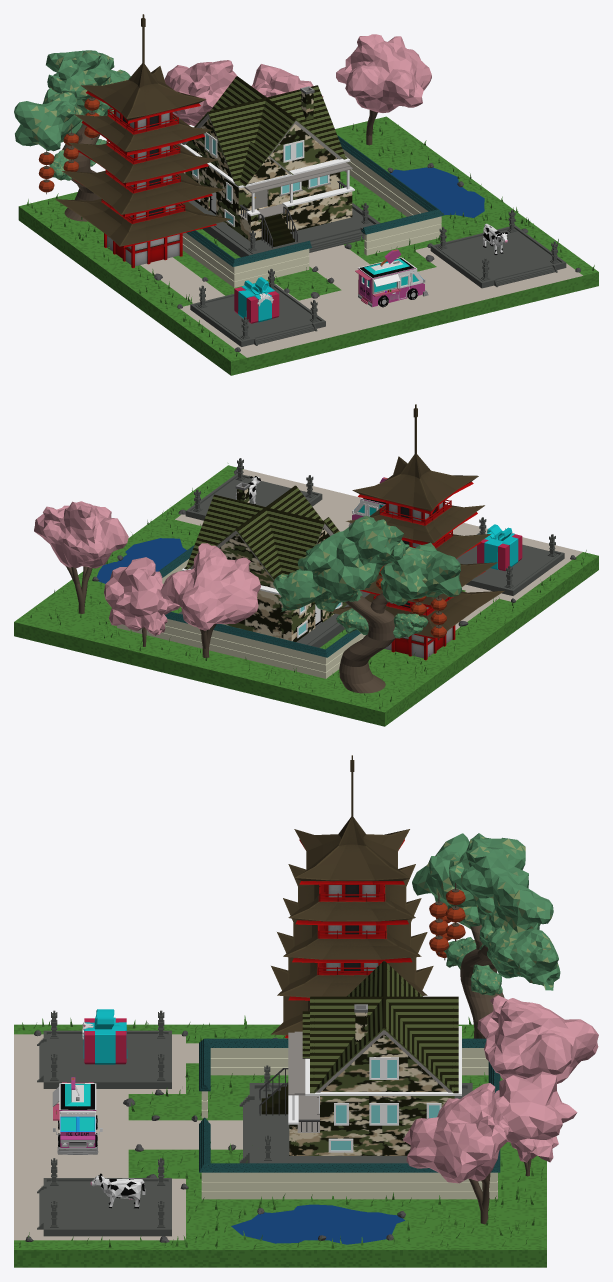
3 renders of one model, top to bottom at view 1: azimuth 30°, elevation 25°; view 2: azimuth 150°, elevation 25°; view 3: azimuth 270°, elevation 25°, orthographic. The views are drawn at different scales.
Parts seen in each view (by area): view 1: Cube.005, Cube.001, VEHICLES_ICE_CREAM_TRUCK, OBJRANDOM_GIANT_PRESENT; view 2: Cube.005, Cube.001, OBJRANDOM_GIANT_PRESENT, VEHICLES_ICE_CREAM_TRUCK; view 3: Cube.005, Cube.001, VEHICLES_ICE_CREAM_TRUCK, OBJRANDOM_GIANT_PRESENT, ANIMAL_VACA.
Part boxes in pixels (x1,y1,x2,y2): Cube.005: [14, 14, 598, 375]; Cube.001: [179, 76, 354, 248]; VEHICLES_ICE_CREAM_TRUCK: [355, 249, 428, 307]; OBJRANDOM_GIANT_PRESENT: [234, 277, 279, 323]; Cube.005: [14, 404, 598, 726]; Cube.001: [181, 482, 346, 641]; OBJRANDOM_GIANT_PRESENT: [477, 524, 522, 570]; VEHICLES_ICE_CREAM_TRUCK: [348, 477, 387, 526]; Cube.005: [14, 755, 598, 1267]; Cube.001: [259, 961, 461, 1155]; VEHICLES_ICE_CREAM_TRUCK: [52, 1077, 102, 1154]; OBJRANDOM_GIANT_PRESENT: [82, 1009, 127, 1064]; ANIMAL_VACA: [90, 1173, 145, 1208].
Size of the model in its own units: 4528 by 2713 by 4389.
46 materials, 8 textured.
